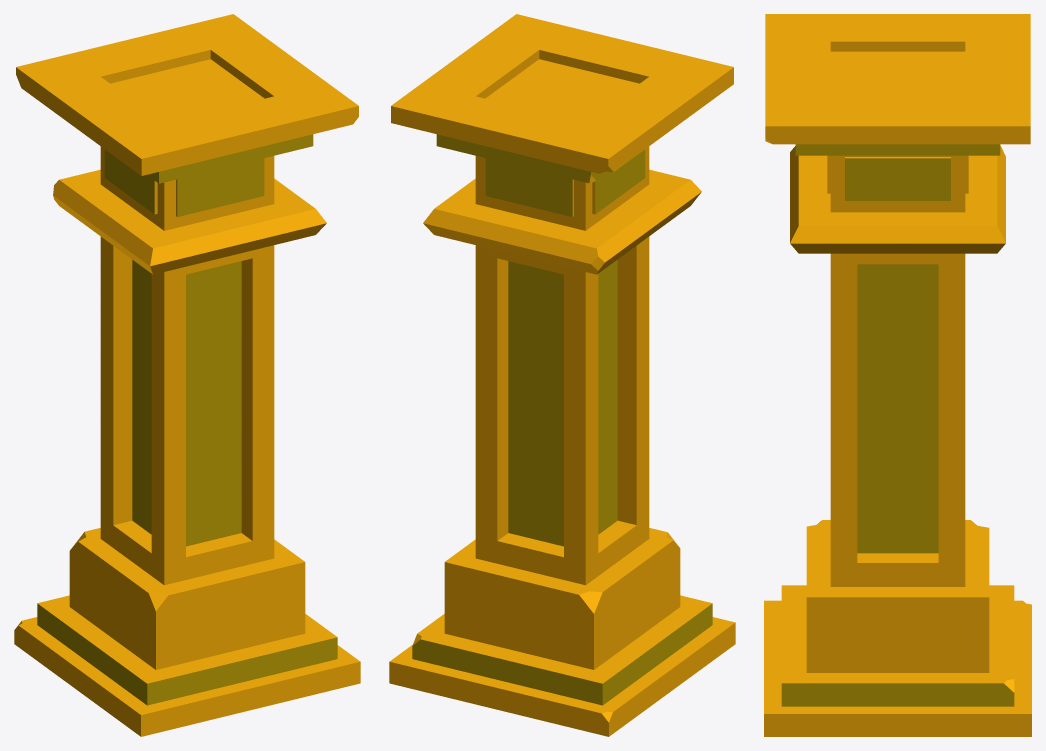
Rendered from PillarGold.fbx.
The picture shows the model from 3 angles, left to right: view 1: azimuth 30°, elevation 25°; view 2: azimuth 150°, elevation 25°; view 3: azimuth 270°, elevation 25°; orthographic projection. The views are drawn at different scales.
Visible parts, largest first — view 1: Cube.001; view 2: Cube.001; view 3: Cube.001.
Boxes of the visible parts, left/top/right/bottom form: Cube.001: left=14, top=14, right=360, bottom=736; Cube.001: left=389, top=14, right=735, bottom=736; Cube.001: left=764, top=14, right=1031, bottom=736.
Size of the model in its own units: 305 by 768 by 305.
